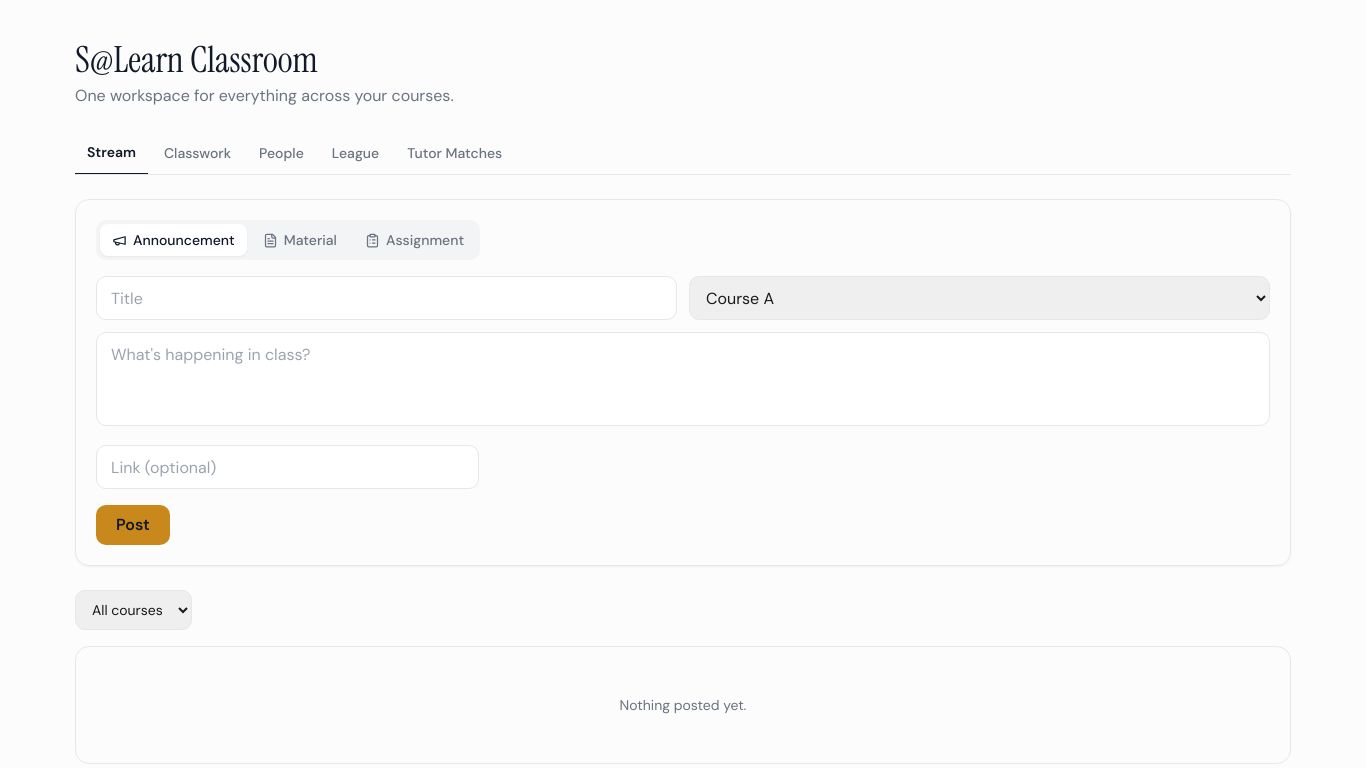
Scenario: SLearnClassroom › People section › renders one progress bar per course, directly labeled
Expected: the heading "S@Learn Classroom" is shown, x1=75 y1=36 x2=318 y2=83
Click the button "People": (281, 153) x1=247 y1=132 x2=316 y2=174
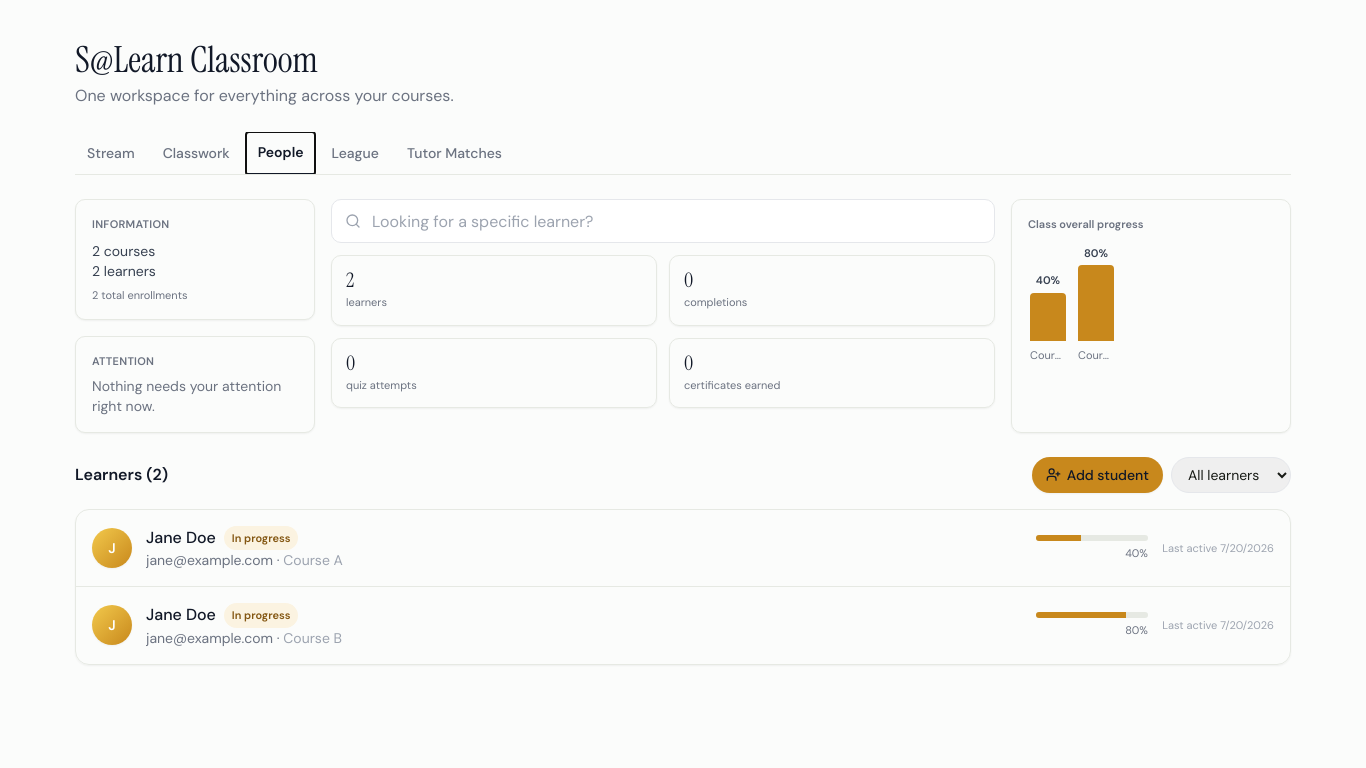
Expected: the picture named "Course A: 40% average progress" is shown, x1=1030 y1=292 x2=1066 y2=340
Expected: the picture named "Course B: 80% average progress" is shown, x1=1078 y1=265 x2=1114 y2=340
